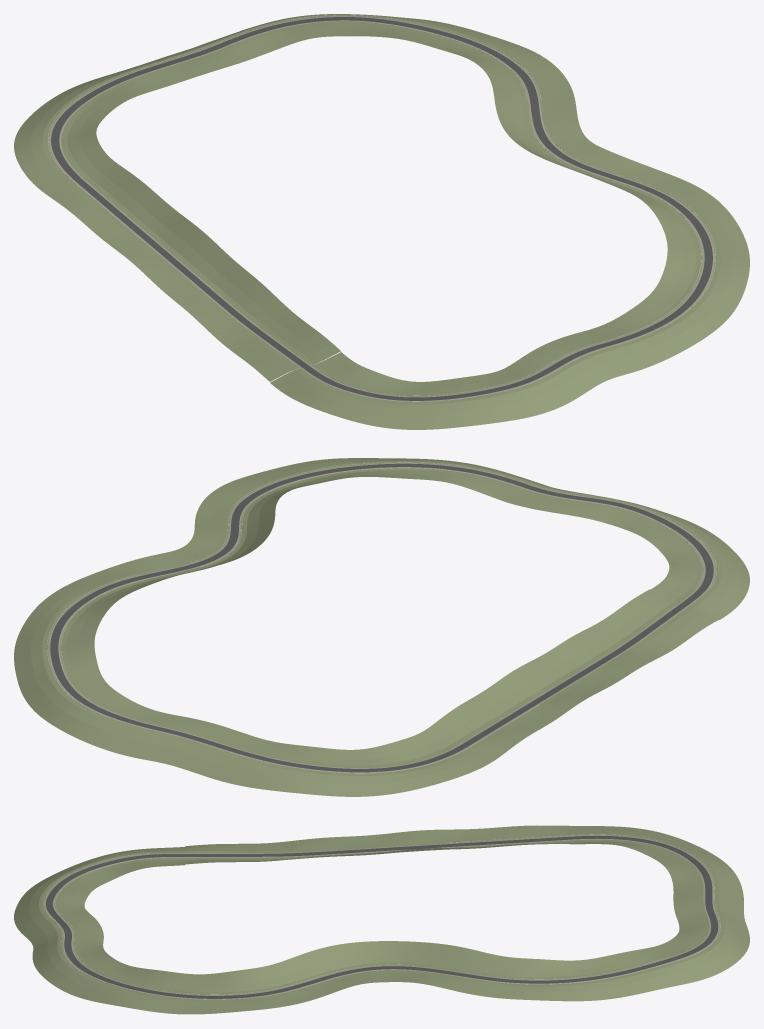
The model's file is ridge-road-terrain.glb.
3 views of the same model, one above another, from view 1: azimuth 30°, elevation 25°; view 2: azimuth 150°, elevation 25°; view 3: azimuth 270°, elevation 25° (orthographic). The views are drawn at different scales.
Parts seen in each view (by area): view 1: physical_bank_0, physical_bank_5, physical_bank_1, physical_bank_4, road, physical_bank_2, physical_bank_3, leftShoulder, rightShoulder; view 2: physical_bank_0, physical_bank_5, physical_bank_1, physical_bank_4, road, physical_bank_2, physical_bank_3, leftShoulder, rightShoulder; view 3: physical_bank_0, physical_bank_5, physical_bank_1, physical_bank_4, road, physical_bank_2, physical_bank_3, leftShoulder, rightShoulder.
Part boxes in pixels (bbox=[...]): physical_bank_0: bbox=[14, 17, 749, 429]; physical_bank_5: bbox=[79, 29, 684, 389]; physical_bank_1: bbox=[31, 14, 732, 414]; physical_bank_4: bbox=[67, 24, 696, 394]; road: bbox=[51, 17, 712, 400]; physical_bank_2: bbox=[43, 14, 720, 405]; physical_bank_3: bbox=[61, 21, 702, 396]; leftShoulder: bbox=[49, 16, 714, 401]; rightShoulder: bbox=[59, 20, 704, 397]; physical_bank_0: bbox=[14, 458, 749, 796]; physical_bank_5: bbox=[77, 474, 686, 759]; physical_bank_1: bbox=[30, 459, 733, 784]; physical_bank_4: bbox=[66, 470, 697, 765]; road: bbox=[50, 463, 713, 772]; physical_bank_2: bbox=[42, 461, 721, 776]; physical_bank_3: bbox=[60, 468, 703, 767]; leftShoulder: bbox=[48, 463, 715, 772]; rightShoulder: bbox=[58, 467, 705, 768]; physical_bank_0: bbox=[14, 825, 749, 1014]; physical_bank_5: bbox=[70, 843, 693, 985]; physical_bank_1: bbox=[28, 830, 735, 1006]; physical_bank_4: bbox=[60, 841, 703, 992]; road: bbox=[45, 836, 718, 998]; physical_bank_2: bbox=[38, 833, 725, 1001]; physical_bank_3: bbox=[54, 839, 709, 995]; leftShoulder: bbox=[44, 835, 719, 999]; rightShoulder: bbox=[52, 838, 711, 995].
Size of what is drawn, in the model's own units: 810 by 122 by 1252.
